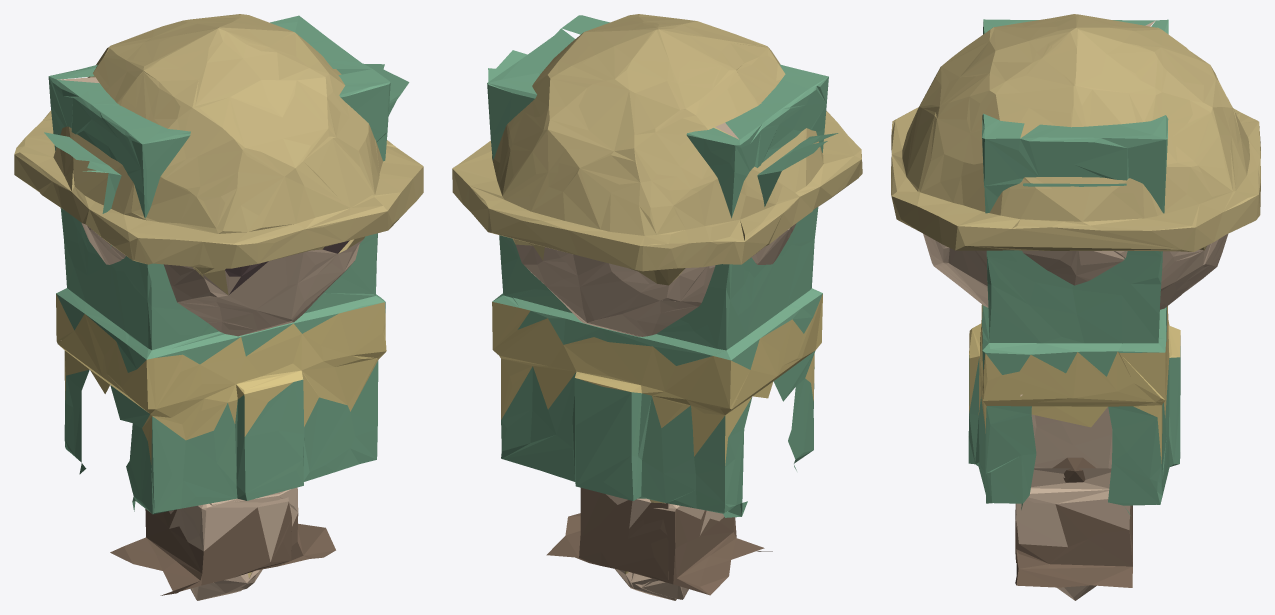
Rendered from spear.glb.
3 views of the same model, side by side, from view 1: azimuth 30°, elevation 25°; view 2: azimuth 150°, elevation 25°; view 3: azimuth 270°, elevation 25° (orthographic).
Visible parts, largest first — view 1: torso, head, legL_l, legR_l, armL_l; view 2: head, torso, legR_l, legL_l, armL_l, armR_l; view 3: head, torso, legR_l, legL_u.
Part boxes in pixels (x1=…): torso: x1=44, y1=15, x2=409, y2=514; head: x1=14, y1=14, x2=423, y2=340; legL_l: x1=110, y1=490, x2=291, y2=595; legR_l: x1=209, y1=487, x2=335, y2=570; armL_l: x1=190, y1=570, x2=259, y2=600; head: x1=452, y1=14, x2=862, y2=336; torso: x1=487, y1=15, x2=838, y2=517; legR_l: x1=546, y1=488, x2=669, y2=579; legL_l: x1=630, y1=501, x2=772, y2=595; armL_l: x1=631, y1=573, x2=688, y2=599; armR_l: x1=615, y1=499, x2=676, y2=600; head: x1=891, y1=14, x2=1260, y2=396; torso: x1=968, y1=19, x2=1180, y2=515; legR_l: x1=1015, y1=457, x2=1132, y2=587; legL_u: x1=1034, y1=407, x2=1111, y2=468.
Size of the model in its own units: 0.8532 by 1.39 by 0.8311.
